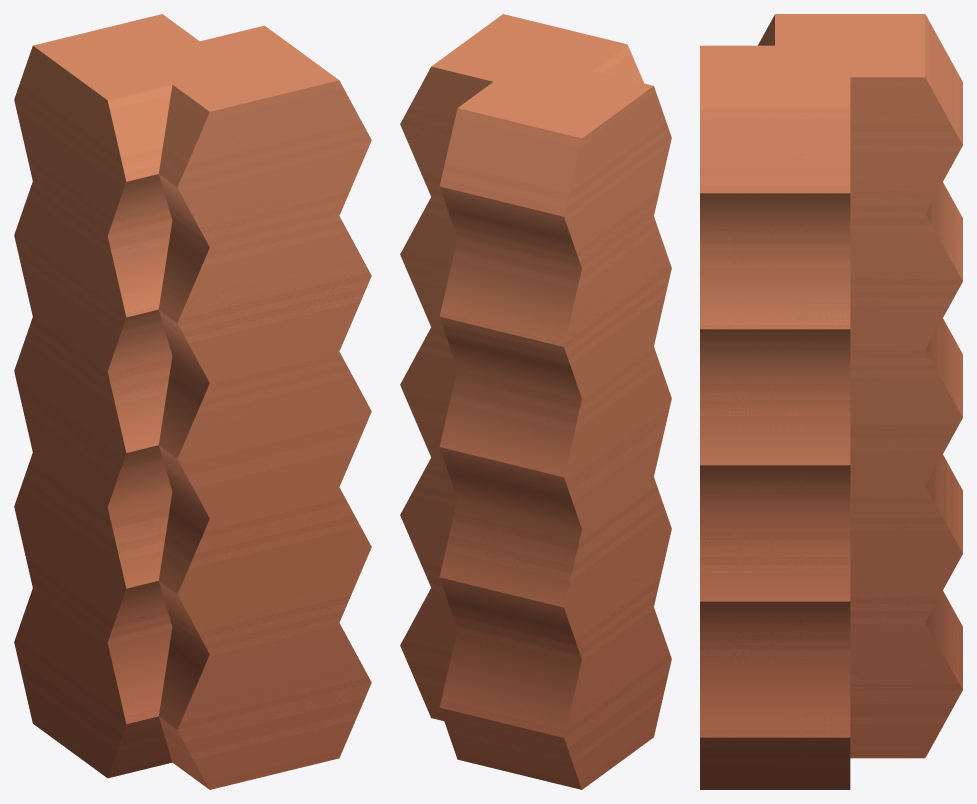
Rendered from cabin-corner-logs.glb.
3 renders of one model, left to right at view 1: azimuth 30°, elevation 25°; view 2: azimuth 150°, elevation 25°; view 3: azimuth 270°, elevation 25°, orthographic. The views are drawn at different scales.
Visible parts, largest first — view 1: cabin-corner-logs; view 2: cabin-corner-logs; view 3: cabin-corner-logs.
Part boxes in pixels (left/top/right/bottom): cabin-corner-logs: left=14, top=14, right=371, bottom=789; cabin-corner-logs: left=400, top=14, right=671, bottom=789; cabin-corner-logs: left=700, top=14, right=962, bottom=789.
Bounding box in the file's own units: 1.05 × 3 × 1.05.
1 material, 1 textured.
